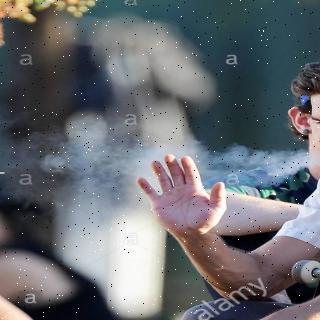smoke: (216, 147, 320, 187)
